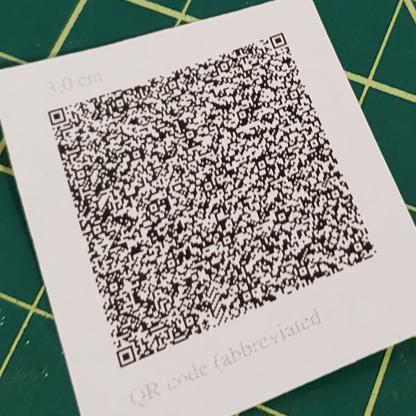qr: (43, 30, 383, 374)
